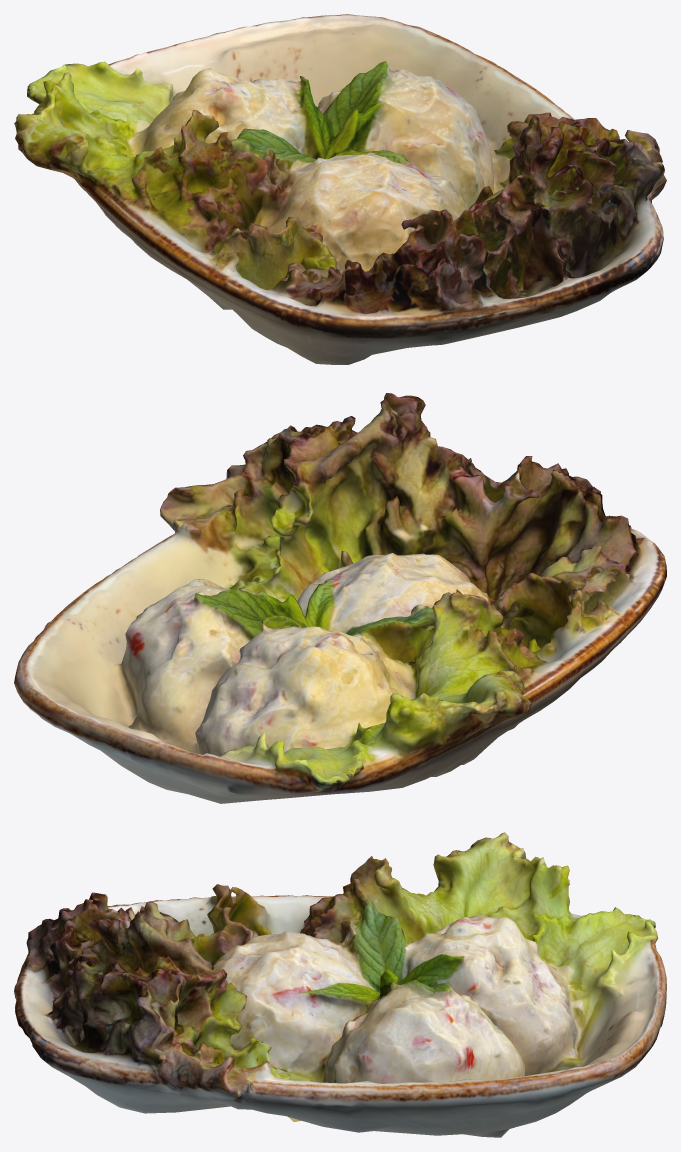
File: Korat AlJebna Breakfast.glb
The picture shows the model from 3 angles, top to bottom: view 1: azimuth 30°, elevation 25°; view 2: azimuth 150°, elevation 25°; view 3: azimuth 270°, elevation 25°; orthographic projection. The views are drawn at different scales.
Visible parts, largest first — view 1: ObjectCapture; view 2: ObjectCapture; view 3: ObjectCapture.
Boxes of the visible parts, bbox=[...] form: ObjectCapture: bbox=[14, 14, 666, 364]; ObjectCapture: bbox=[14, 393, 666, 803]; ObjectCapture: bbox=[14, 832, 666, 1137].
Size of the model in its own units: 0.1511 by 0.0675 by 0.1865.
Materials: 1 (1 with a texture image).
